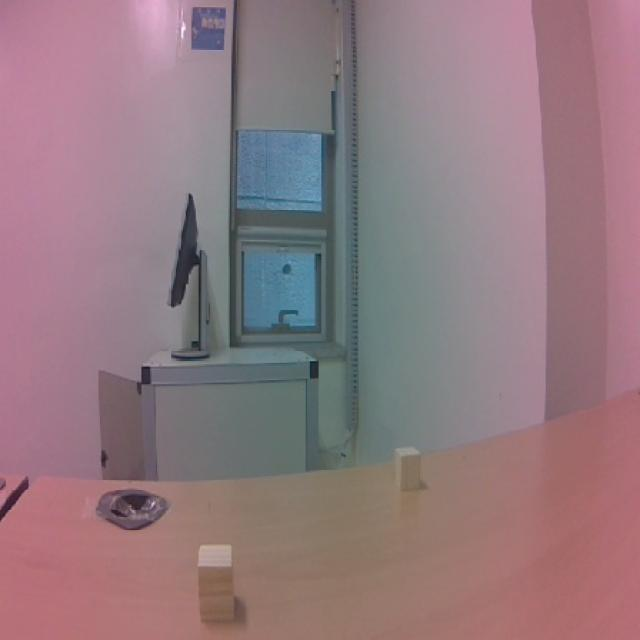obstacle: (190, 537, 247, 628), (388, 440, 430, 496)
